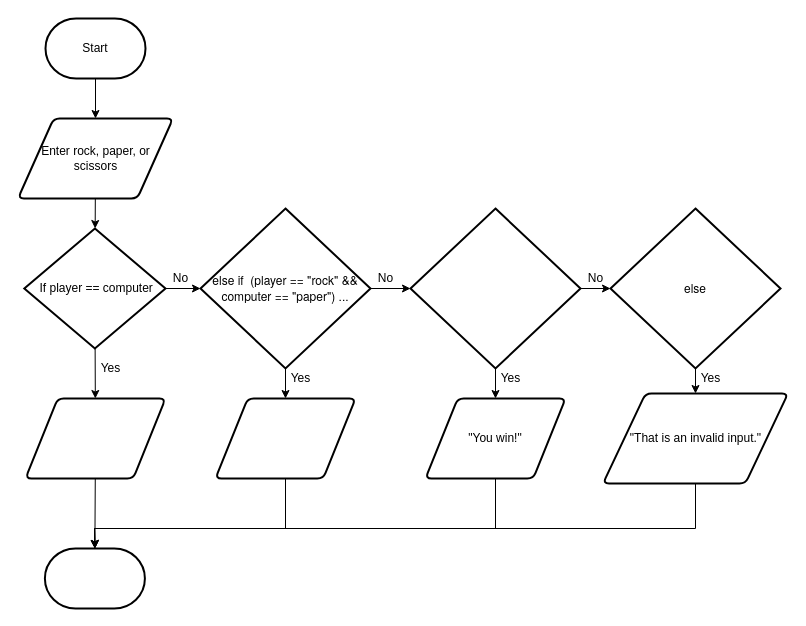
Some shapes in this 806 by 626 pixel diagram are drawn without their labels. The shapes that lost their labels are listed below. From the top down, each one's centre as x and y in pixels, then its label:
pixel 495 288: else if (player == "paper" && computer == "rock") ...
pixel 95 438: "Tie."
pixel 285 438: "You lose."
pixel 94 578: Stop
